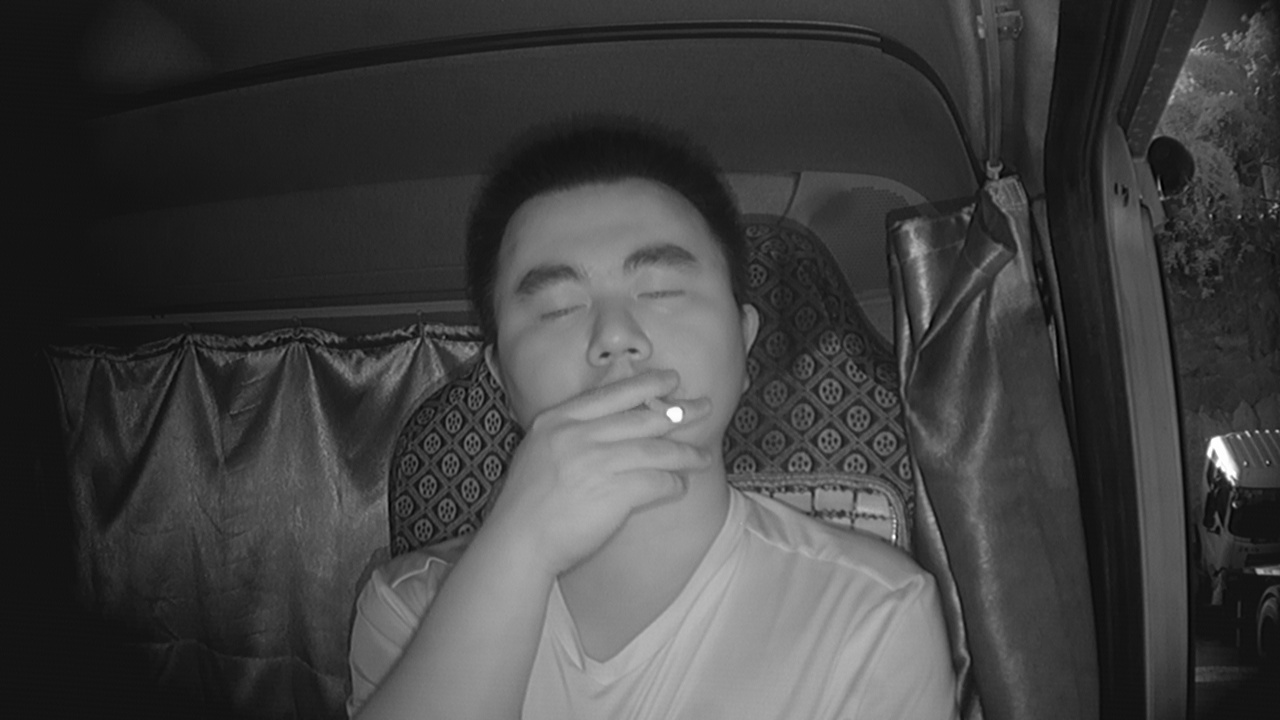hand: (512, 378, 724, 532)
